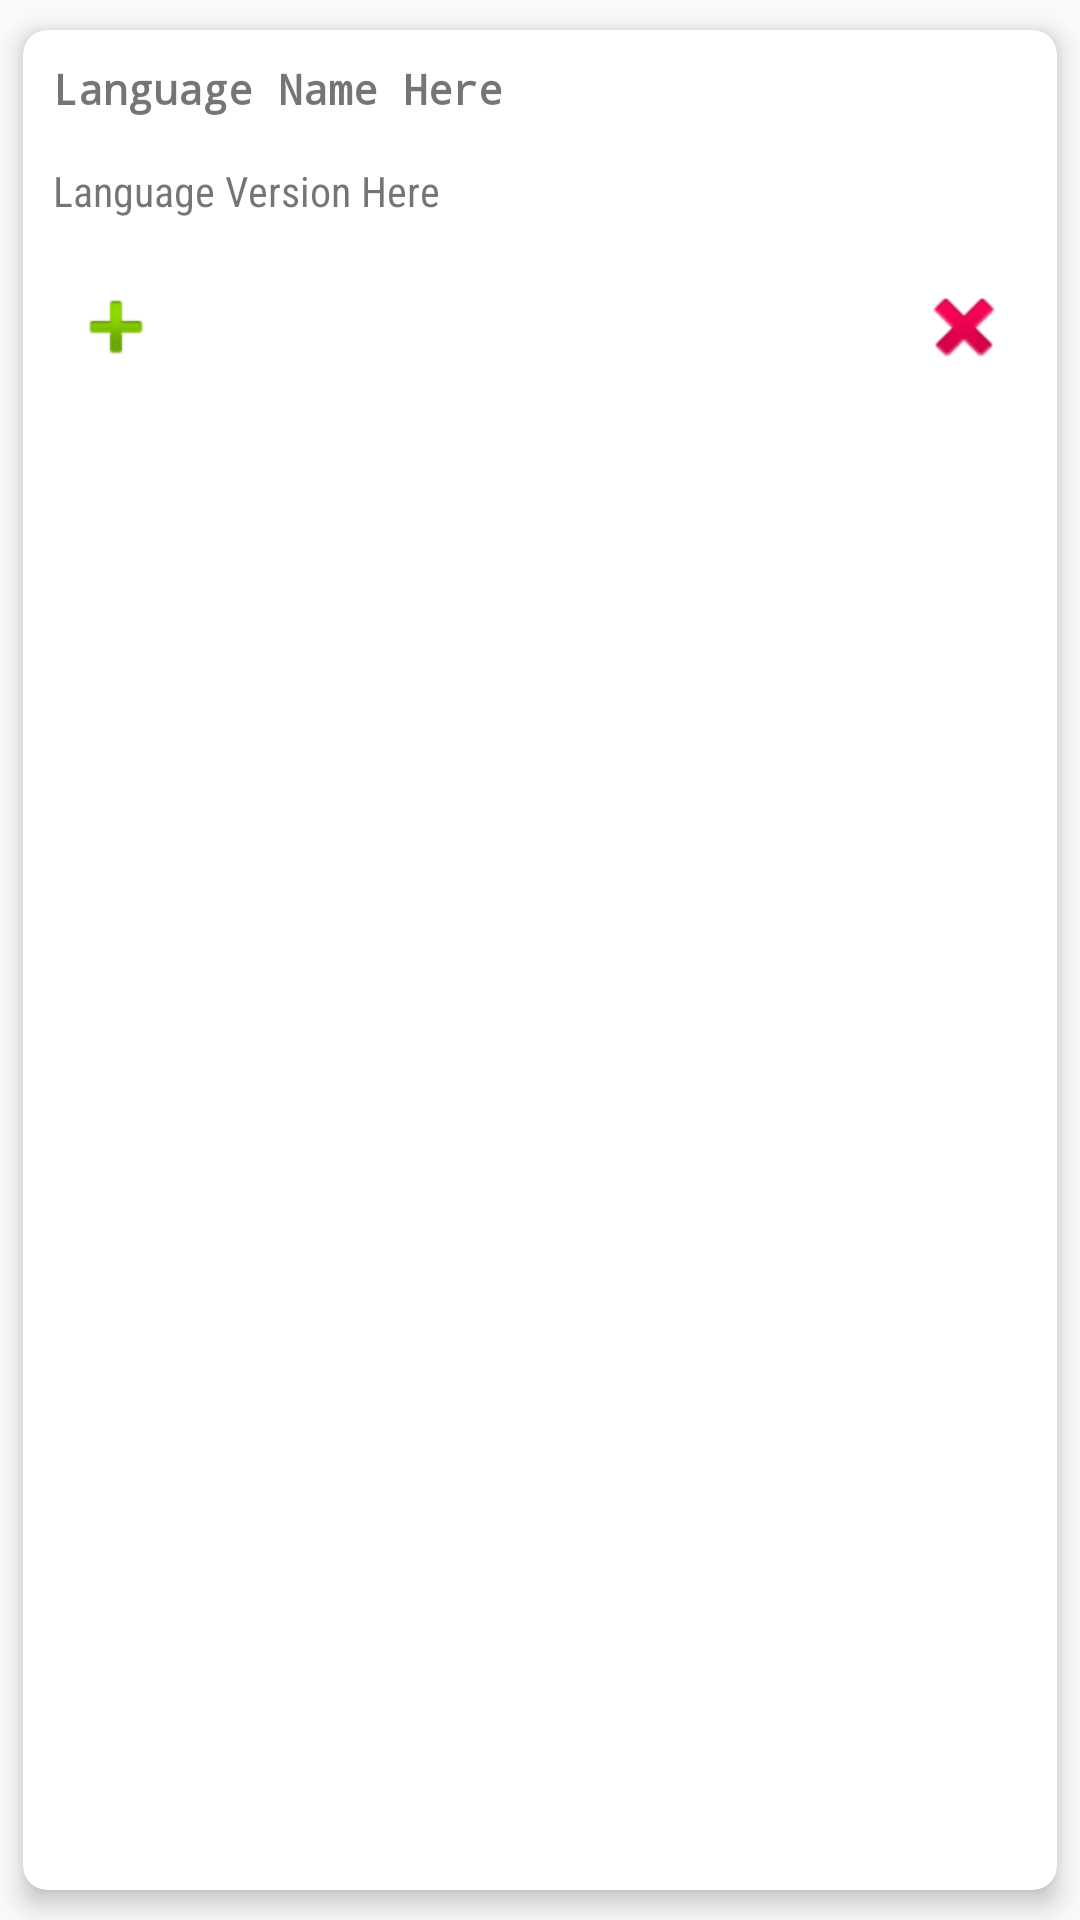

Point at icon controls on the screen. Image size 1080 x 1920, points as point (x, y).
add: point (116, 327)
delete: point (964, 327)
